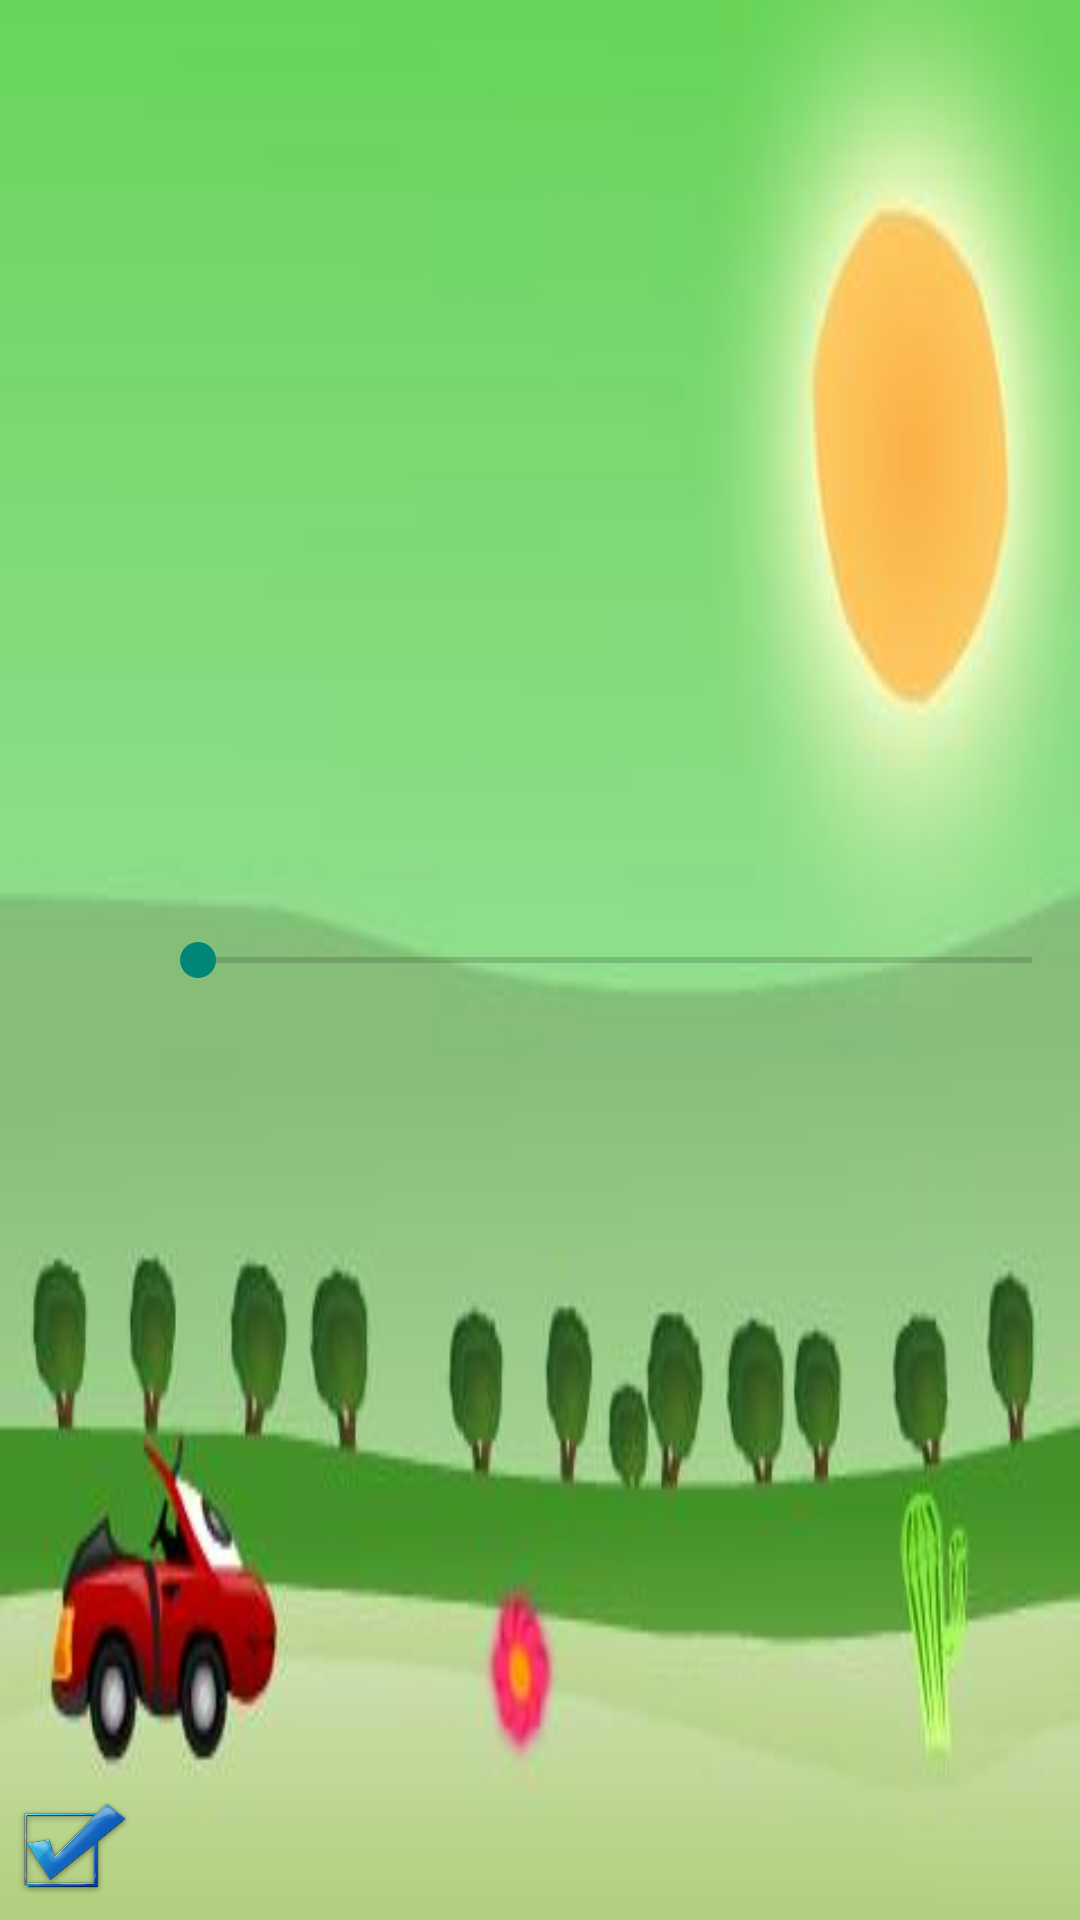

Screen size 1080*1920. Icon name, then its center in pixels as [x,y]:
check: [72,1849]
